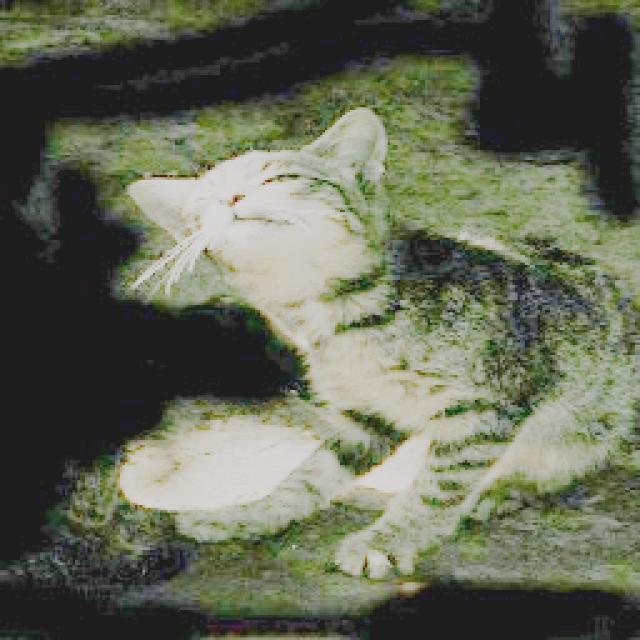cat: (124, 107, 640, 578)
